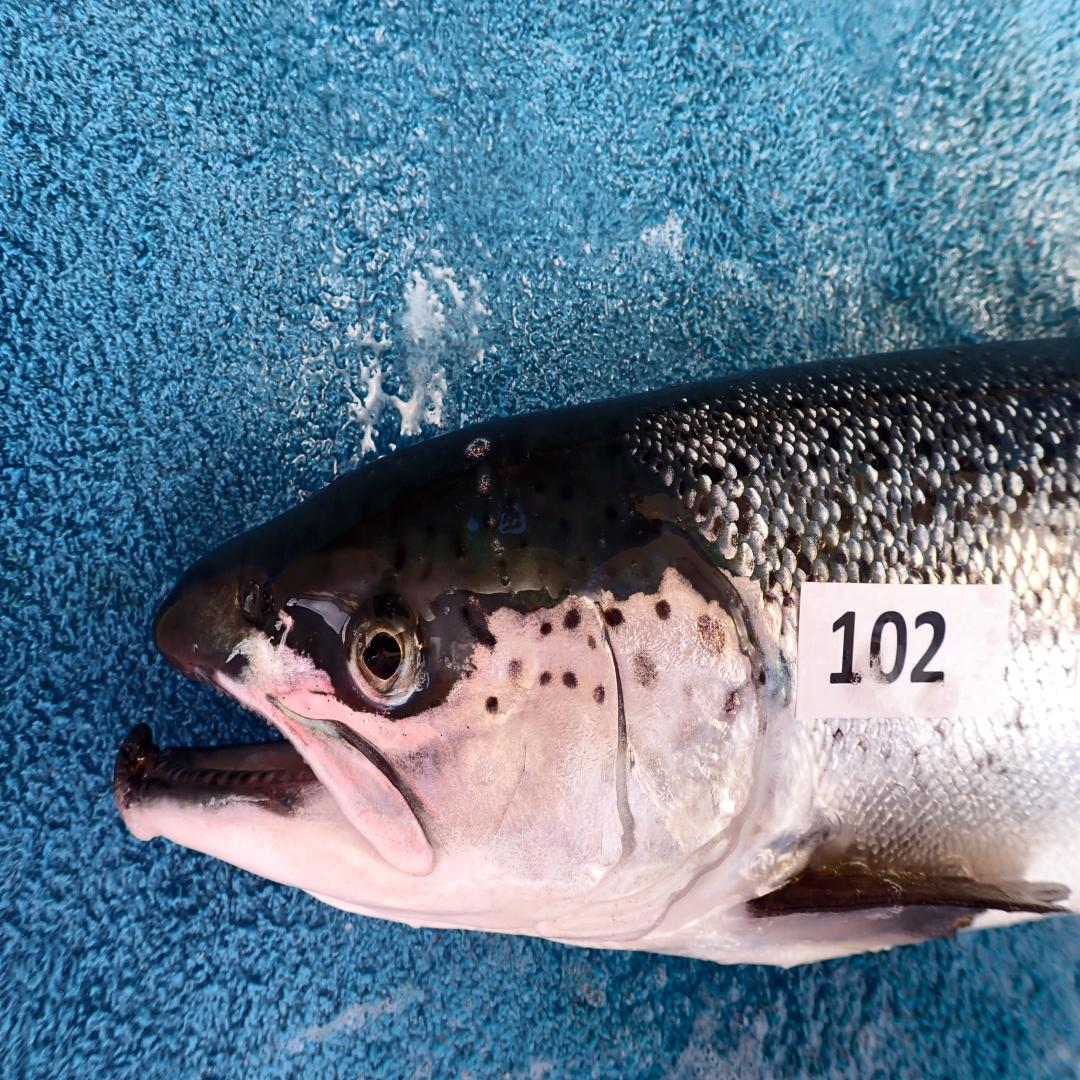spot: (696, 613, 728, 658), (633, 650, 658, 686), (506, 658, 523, 686), (724, 689, 740, 714), (603, 608, 624, 627), (563, 608, 580, 630), (656, 599, 671, 619), (681, 681, 694, 703), (563, 672, 578, 689), (485, 695, 498, 714), (593, 683, 605, 703), (540, 622, 553, 636), (540, 672, 551, 686), (589, 636, 597, 650)
